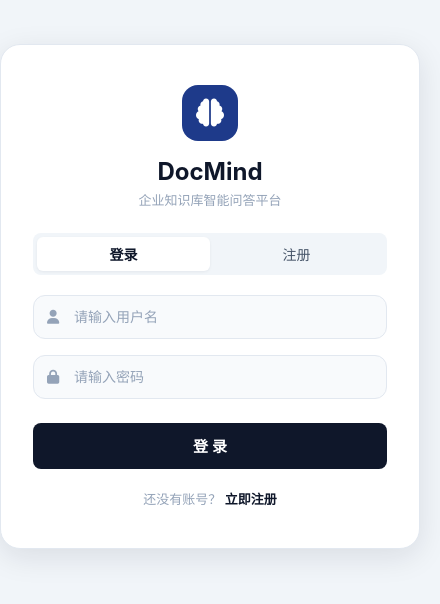
Scenario: LoginPage › 登录失败显示错误消息
The image size is (440, 604).
Type "testuser" into the field with placeholder "请输入用户名" at (210, 316), box [33, 294, 387, 338]
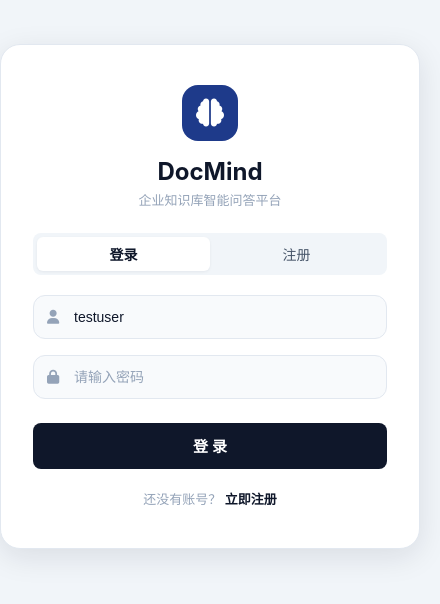
Type "wrongpass" into the password field with placeholder "请输入密码" at (210, 376), box [33, 354, 387, 398]
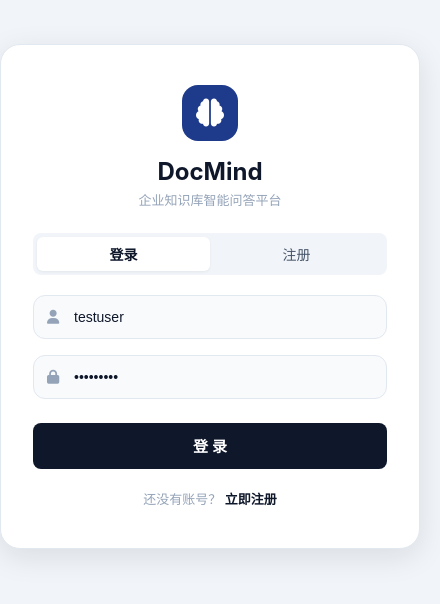
Submit the form, box [33, 294, 387, 468]
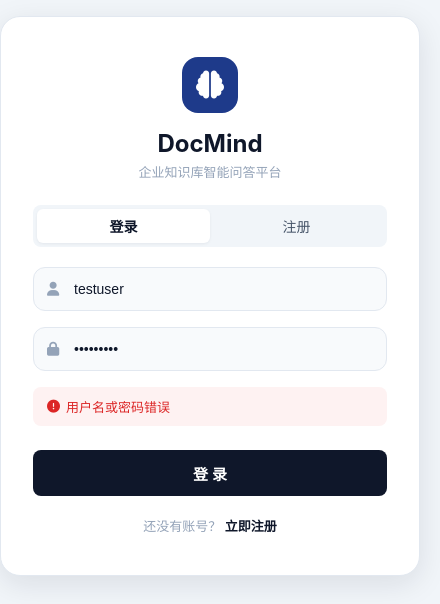
Result: the element with class "error-msg" reads "用户名或密码错误" at [66, 399, 170, 415]
